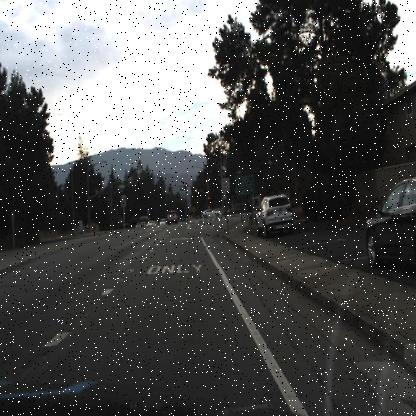car: (364, 178, 416, 270), (256, 195, 292, 235), (228, 200, 247, 218), (201, 207, 221, 220), (167, 209, 177, 224)
